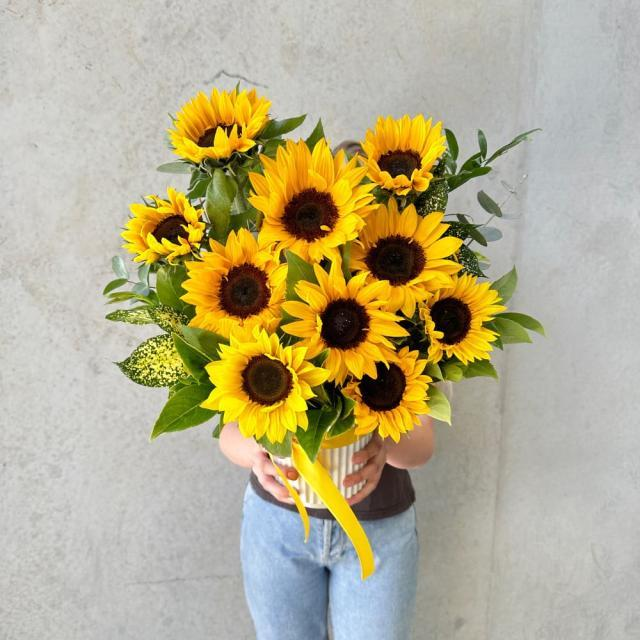sunflower: (280, 254, 410, 386), (246, 136, 377, 264), (199, 323, 330, 444), (346, 197, 464, 318), (179, 226, 288, 340), (340, 345, 432, 443), (166, 84, 272, 164), (418, 272, 506, 365), (359, 112, 447, 196), (120, 186, 206, 266)
